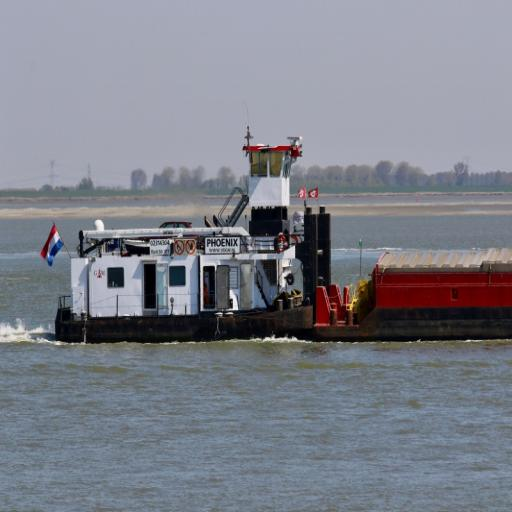tugboat: (40, 122, 338, 347)
